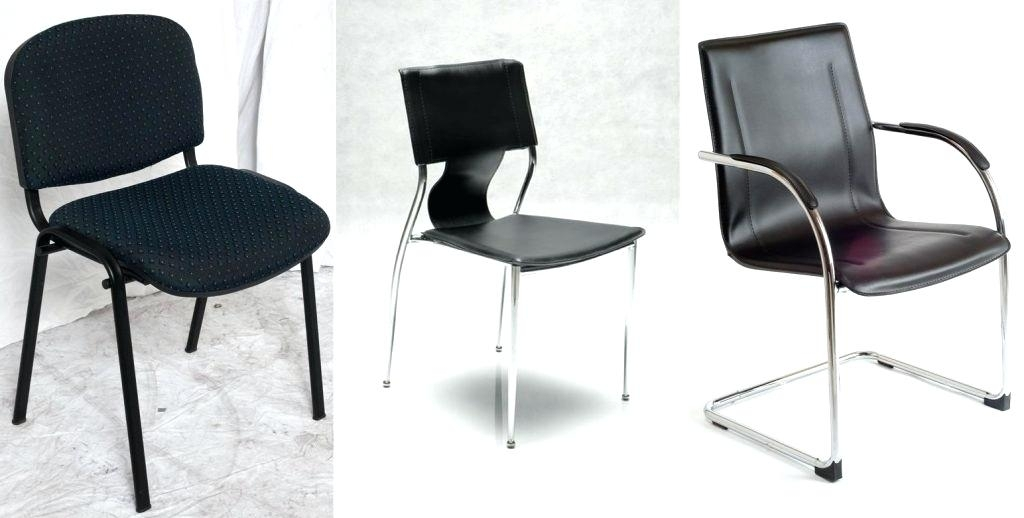chairs: (1, 1, 327, 517), (688, 14, 1019, 480), (382, 43, 645, 459)
